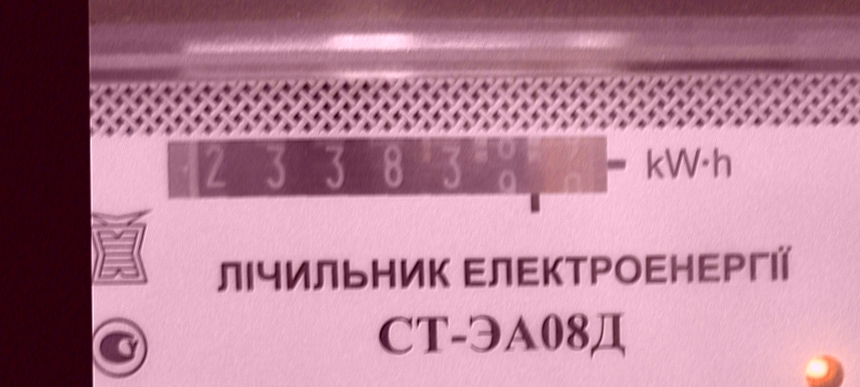0: (565, 171, 587, 197)
2: (206, 144, 231, 191)
3: (264, 142, 293, 191), (322, 143, 351, 192), (441, 144, 466, 190)
8: (381, 144, 409, 190), (498, 136, 521, 163)
9: (564, 134, 585, 164), (499, 168, 520, 197)
screen: (158, 126, 631, 221)
